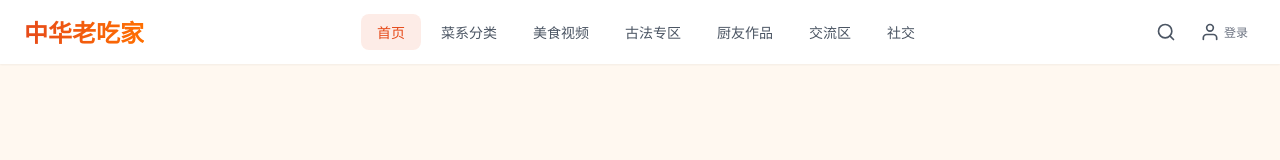
Test case: Navbar › should show search input when search icon clicked
The width and height of the screenshot is (1280, 160).
Click the button at (1166, 32), box [1148,14,1184,50]
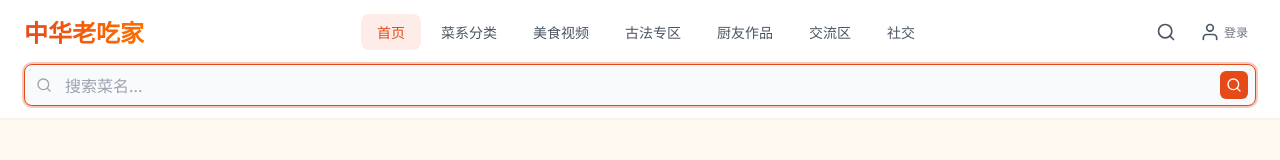
Expected: the field with placeholder "搜索菜名..." is shown, [24,64,1256,106]
